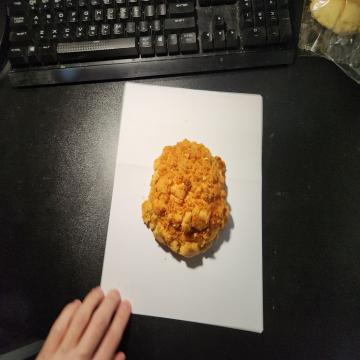soboru_bread: (142, 141, 230, 261)
